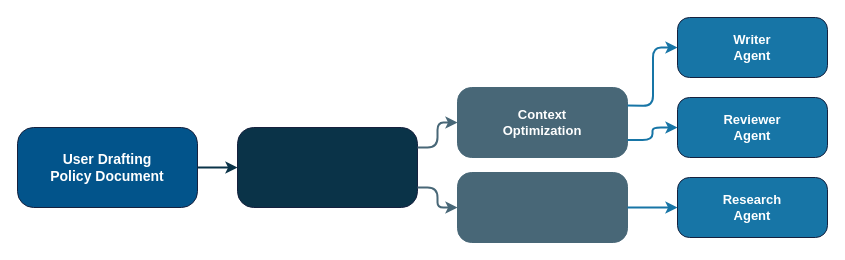
This 845x260 diagram has some shape labels left out. Each missing label, with the centre of its shape:
Query Rewrite Agent: the point at 327,167
Search Optimization: the point at 542,207
